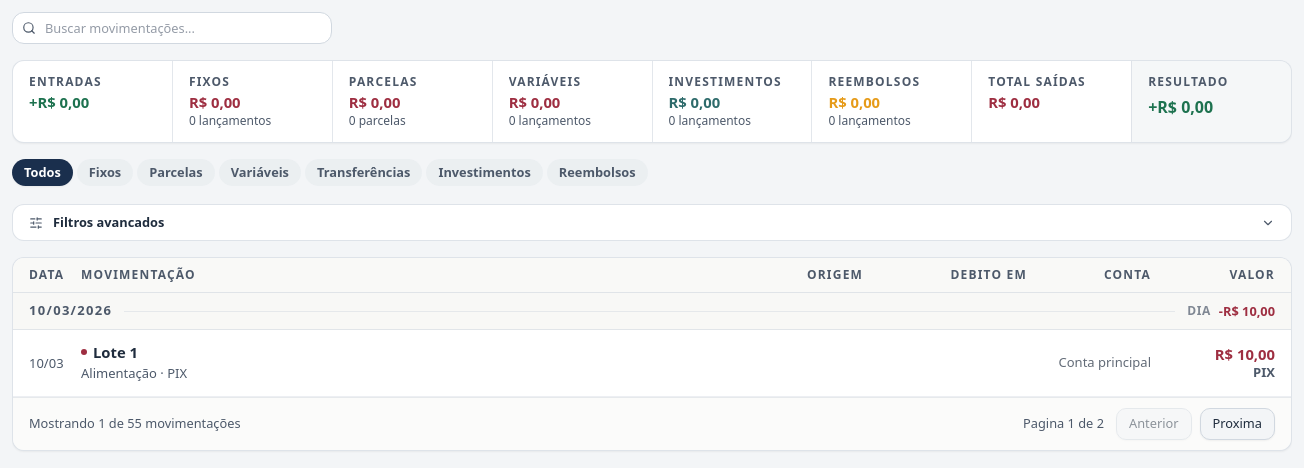
Scenario: HistoryPage mobile scope behavior › navigates between pages and resets to the first page after a new search
The width and height of the screenshot is (1304, 468).
Expected: the text "Pagina 1 de 2" is shown, x1=1023 y1=416 x2=1104 y2=432
Expected: the button "Anterior" is disabled, x1=1116 y1=408 x2=1192 y2=440
Click the button "Proxima" at (1237,424), box x1=1200 y1=408 x2=1275 y2=440
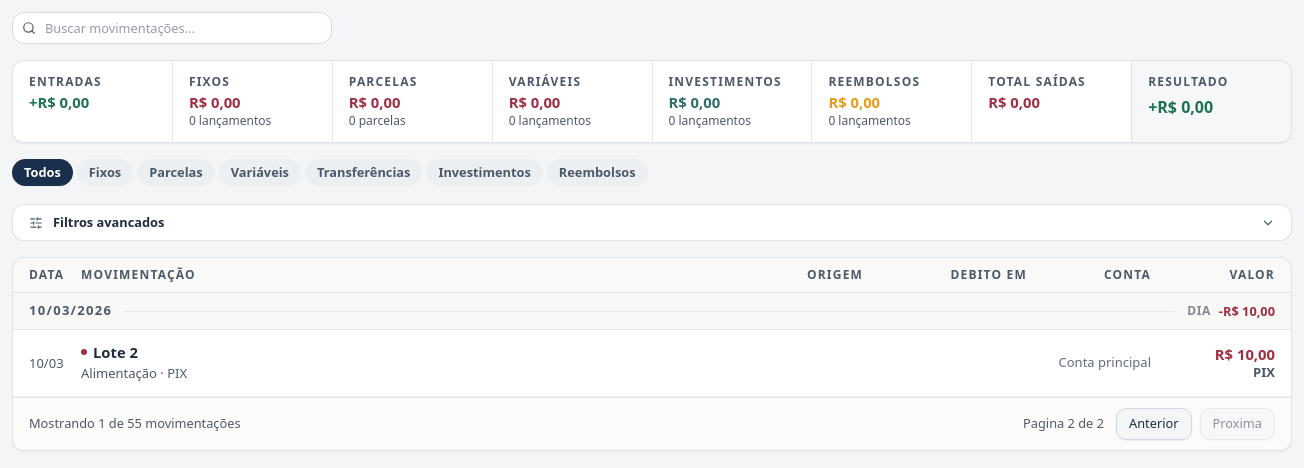
Expected: the button "10/03 Lote 2 Alimentação · PIX Conta principal R$ 10,00 PIX" is shown, x1=13 y1=330 x2=1291 y2=397
Expected: the text "Pagina 2 de 2" is shown, x1=1023 y1=416 x2=1104 y2=432
Type "mercado" into the search field at (172,28), box x1=12 y1=12 x2=332 y2=44
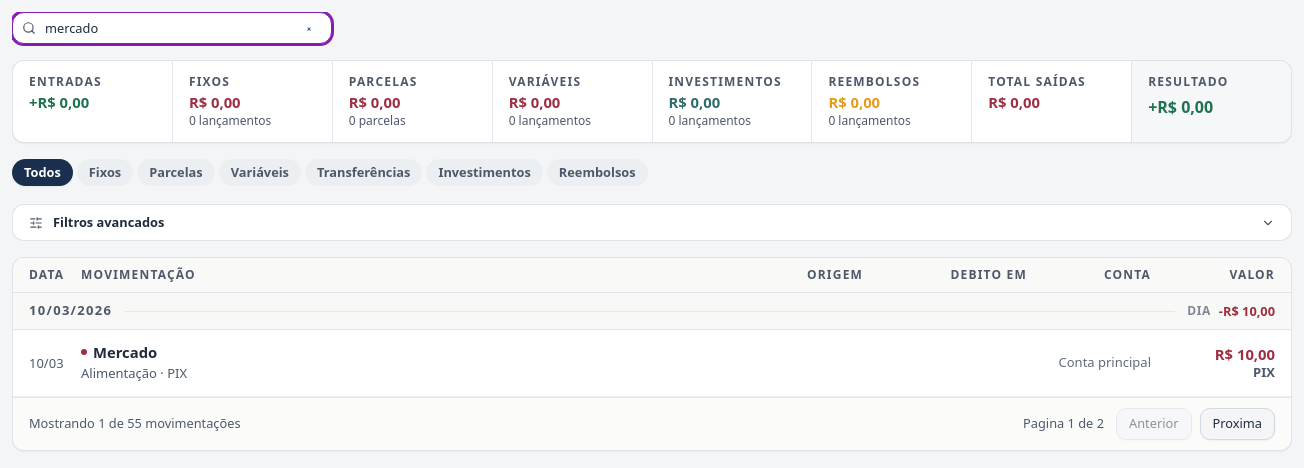
Expected: the button "10/03 Mercado Alimentação · PIX Conta principal R$ 10,00 PIX" is shown, x1=13 y1=330 x2=1291 y2=397
Expected: the text "Pagina 1 de 2" is shown, x1=1023 y1=416 x2=1104 y2=432
